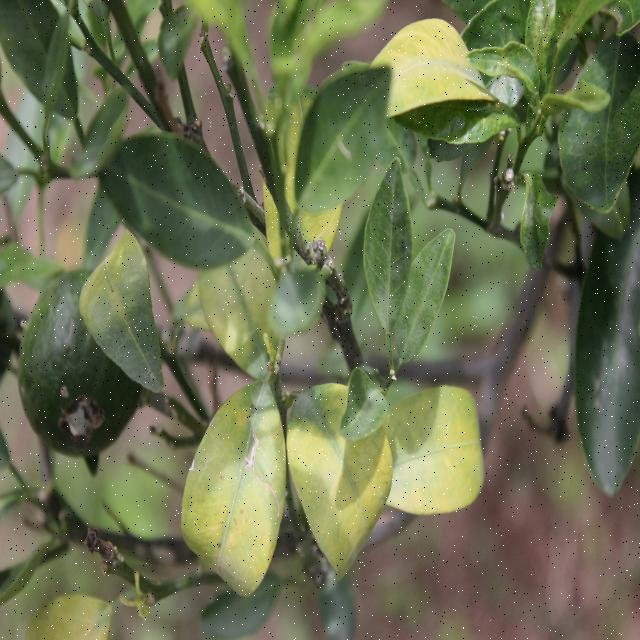greening: (187, 380, 283, 583), (298, 436, 392, 580), (381, 393, 478, 506), (387, 24, 484, 114), (204, 267, 273, 365)
